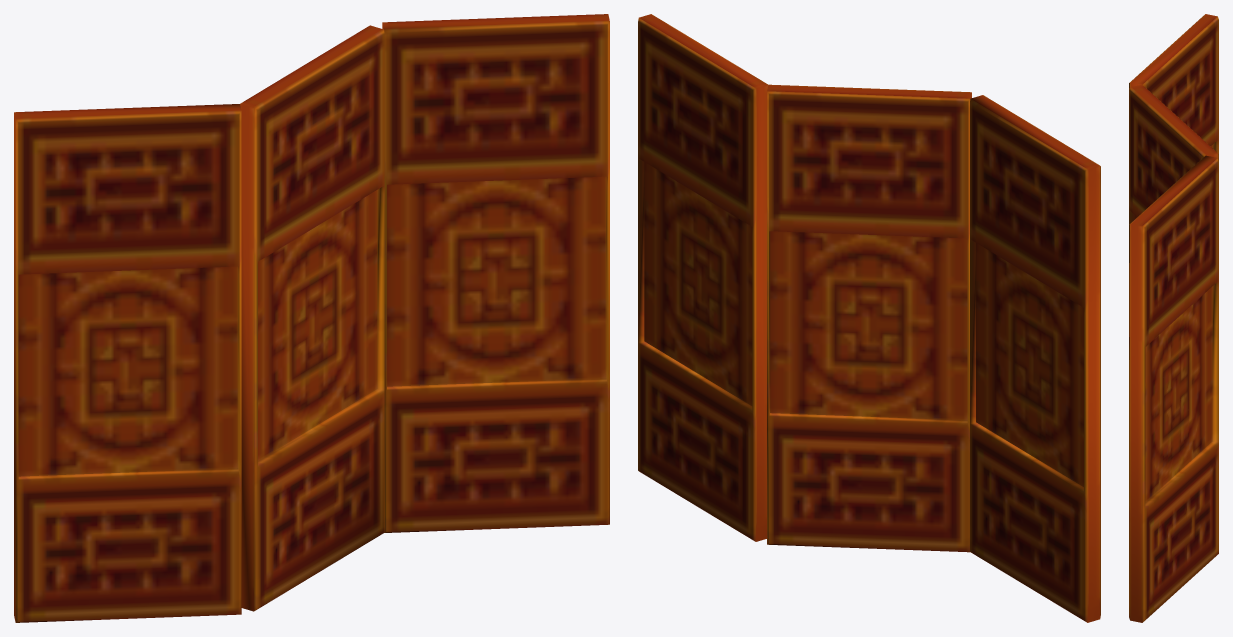
File: rmk_asi_screen.dae
3 views of the same model, side by side, from view 1: azimuth 30°, elevation 25°; view 2: azimuth 150°, elevation 25°; view 3: azimuth 270°, elevation 25° (orthographic). The views are drawn at different scales.
Parts seen in each view (by area): view 1: rmk_asi_screen; view 2: rmk_asi_screen; view 3: rmk_asi_screen.
Part boxes in pixels (x1,y1,x2,y2): rmk_asi_screen: (14, 14, 609, 622); rmk_asi_screen: (638, 14, 1100, 622); rmk_asi_screen: (1129, 14, 1218, 622).
Bounding box in the file's own units: 56.26 × 49 × 10.05.
Materials: 1 (1 with a texture image).
